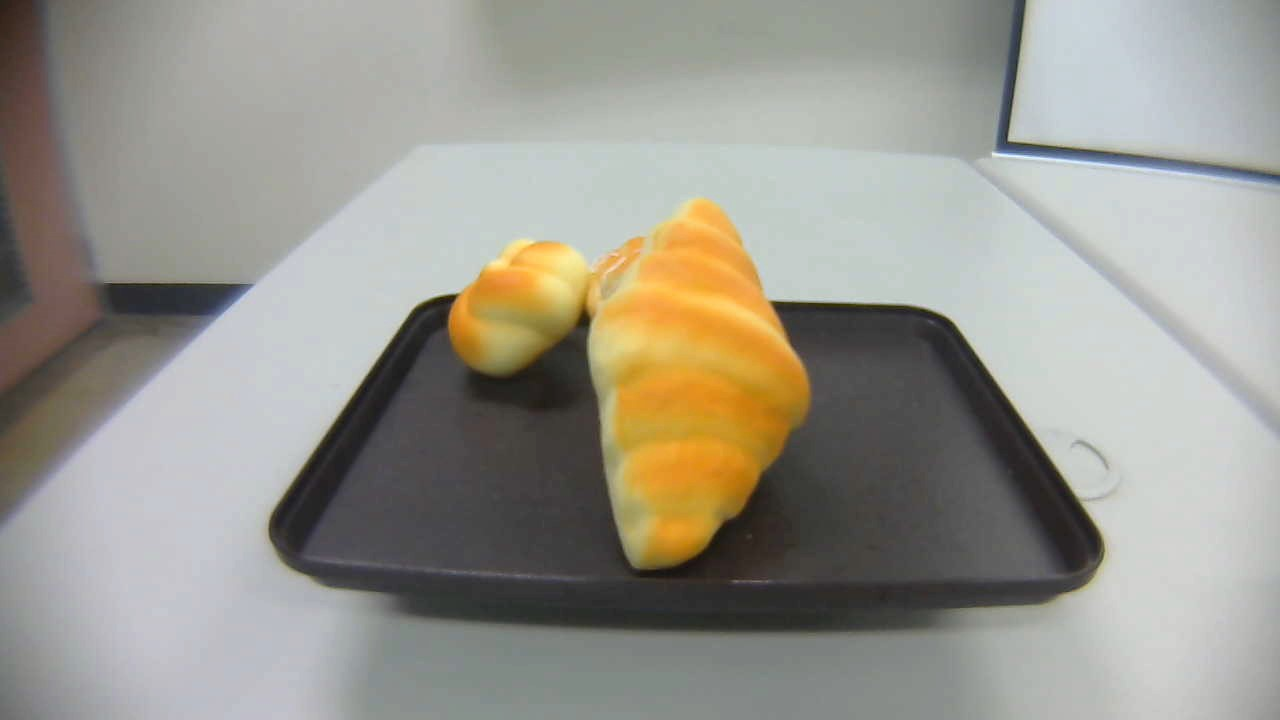croissant: (583, 194, 813, 572)
cupcake: (586, 233, 658, 318)
twist bread: (448, 238, 595, 380)
